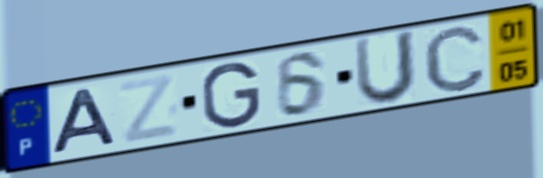6: (273, 50, 329, 119)
A: (50, 85, 122, 157)
C: (421, 22, 489, 95)
G: (199, 60, 264, 131)
U: (351, 27, 419, 107)
Z: (115, 70, 182, 146)
